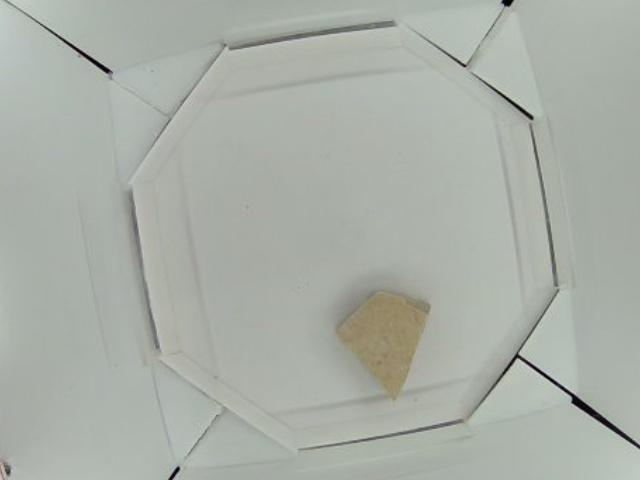China: (336, 288, 431, 405)
